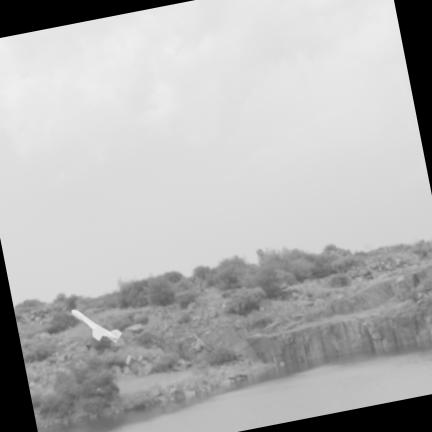Shahed: (72, 310, 121, 342)
